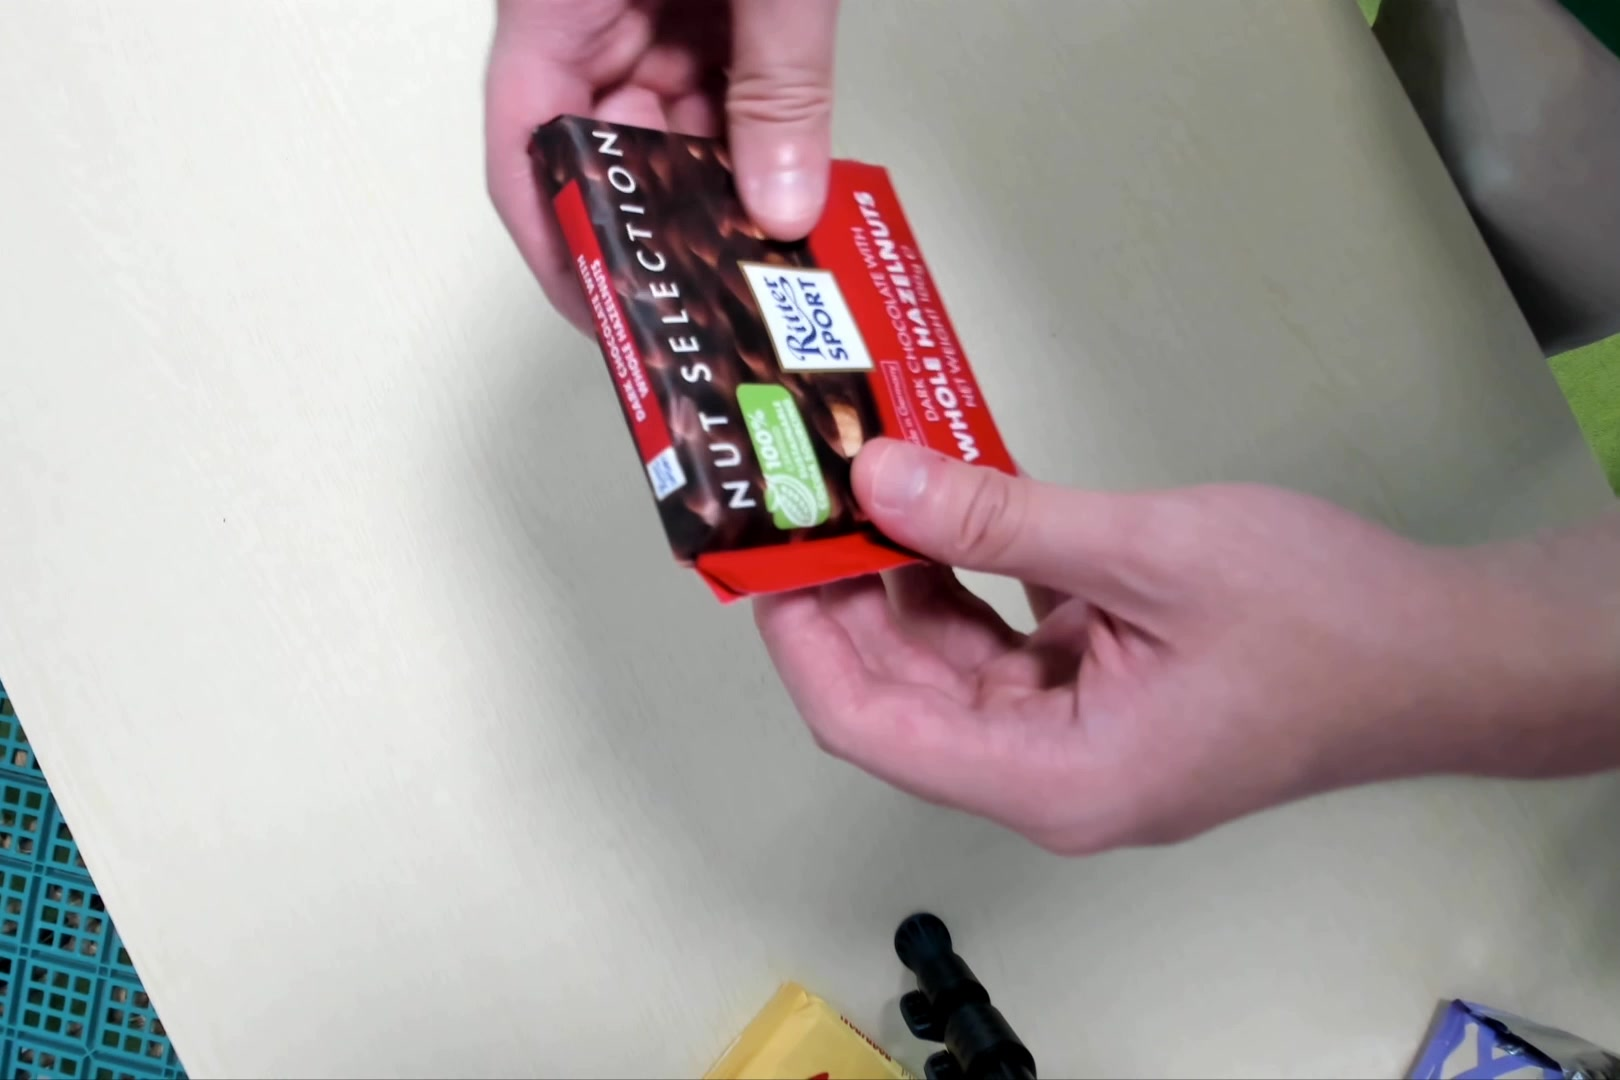SweetsChocolatesOthers_100-199g_NonHalal_NonHealthy: (516, 108, 1034, 600)
